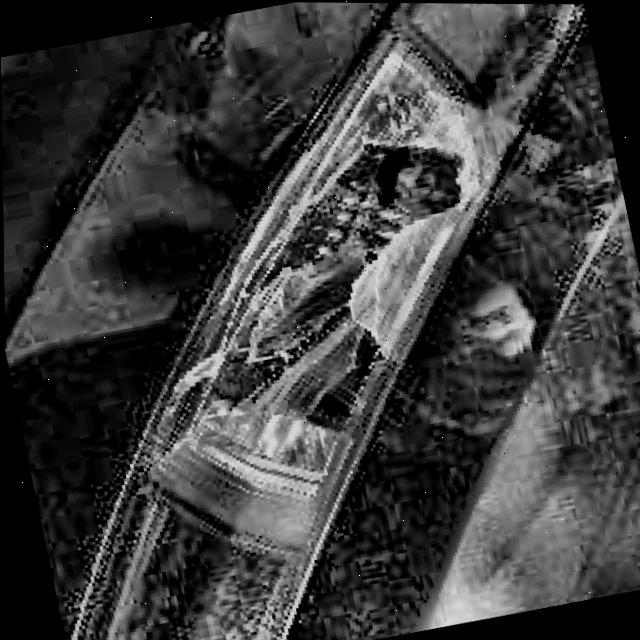tail_lamp: (190, 278, 409, 499), (276, 115, 483, 284)
